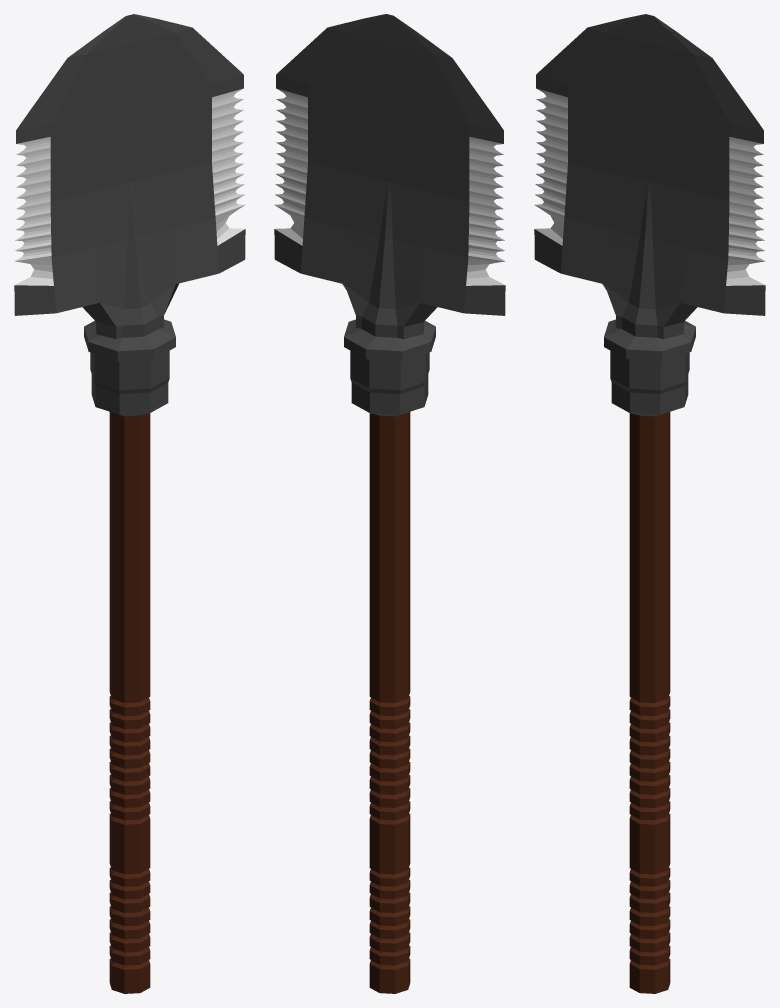
Rendered from Shovel.fbx.
3 views of the same model, side by side, from view 1: azimuth 30°, elevation 25°; view 2: azimuth 150°, elevation 25°; view 3: azimuth 330°, elevation 25° (orthographic).
Parts seen in each view (by area): view 1: Shovel; view 2: Shovel; view 3: Shovel.
Boxes of the visible parts, bbox=[...] form: Shovel: bbox=[14, 14, 245, 993]; Shovel: bbox=[274, 14, 505, 993]; Shovel: bbox=[534, 14, 765, 993].
Size of the model in its own units: 50.74 by 18.09 by 203.
